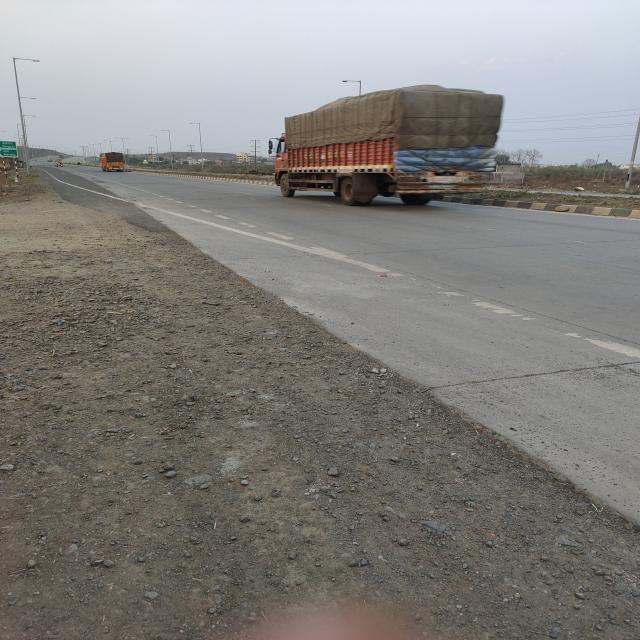truck_back: (262, 82, 507, 209)
